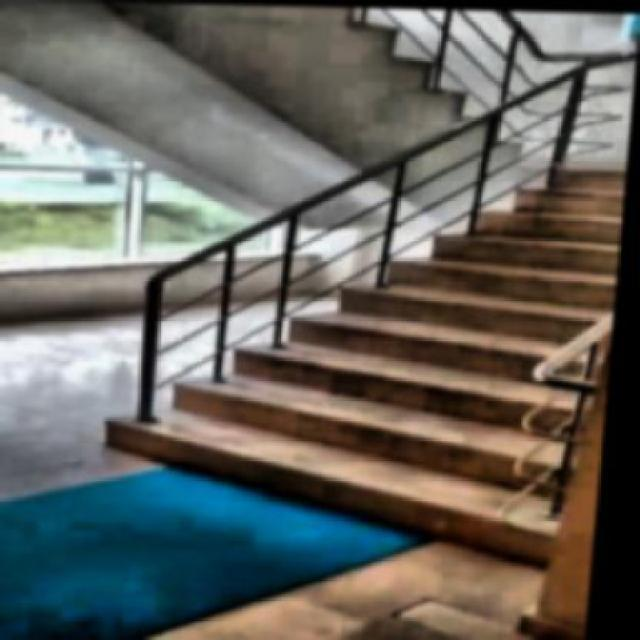stair: (77, 102, 632, 568)
